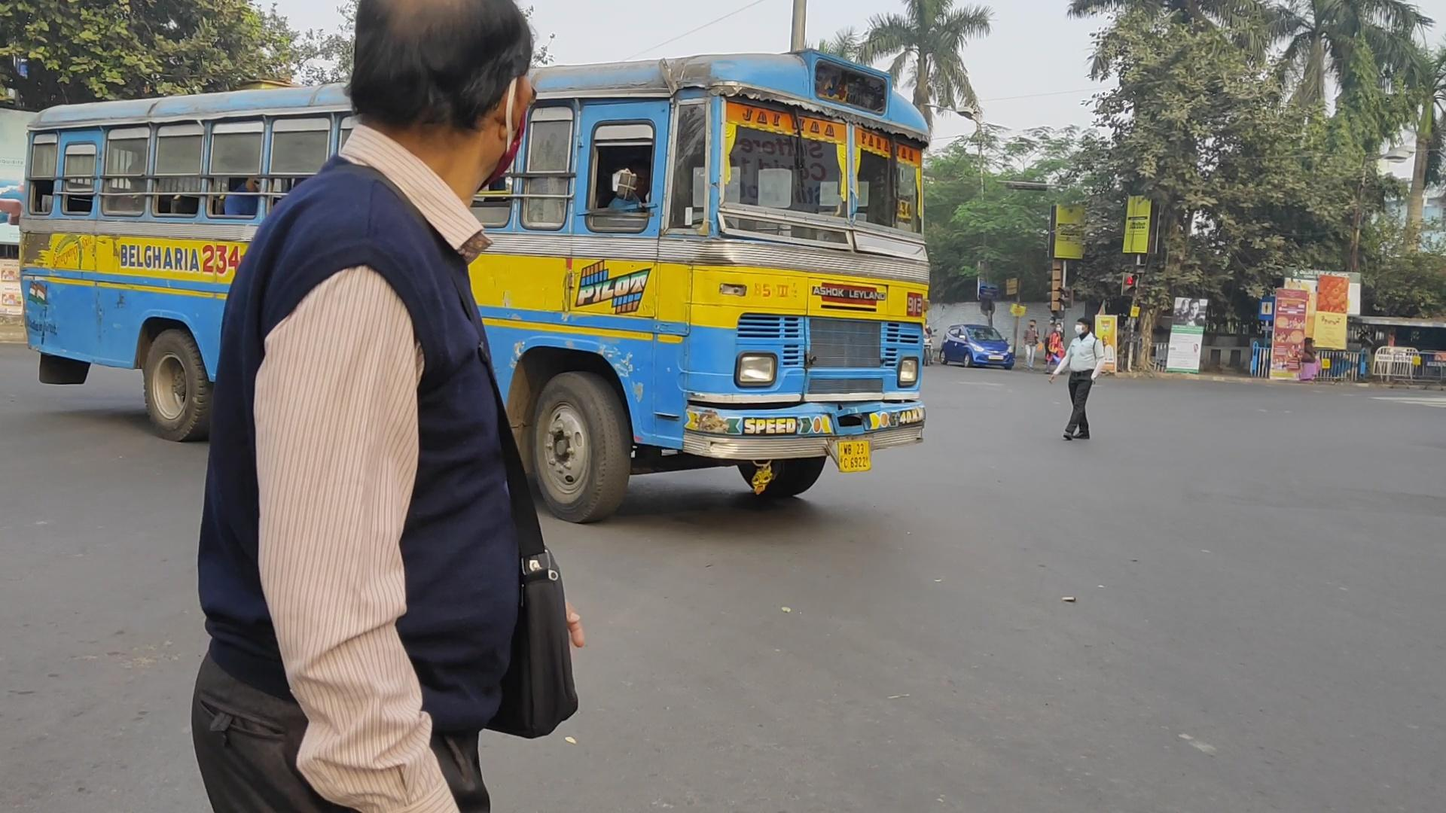Bus: (18, 47, 931, 525)
car: (941, 324, 1015, 371)
